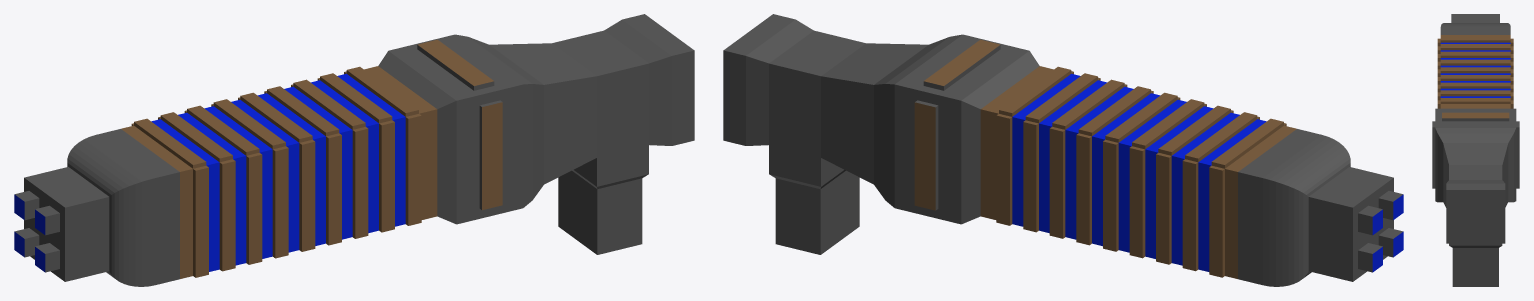
Rendered from Plasma Pea Shooter.fbx.
3 renders of one model, left to right at view 1: azimuth 30°, elevation 25°; view 2: azimuth 150°, elevation 25°; view 3: azimuth 270°, elevation 25°, orthographic. The views are drawn at different scales.
Parts seen in each view (by area): view 1: Cube; view 2: Cube; view 3: Cube.
Boxes of the visible parts, x1=… form: Cube: x1=14, y1=14, x2=694, y2=286; Cube: x1=723, y1=14, x2=1403, y2=286; Cube: x1=1432, y1=14, x2=1519, y2=286.
Bounding box in the file's own units: 1250 × 388 × 248.
